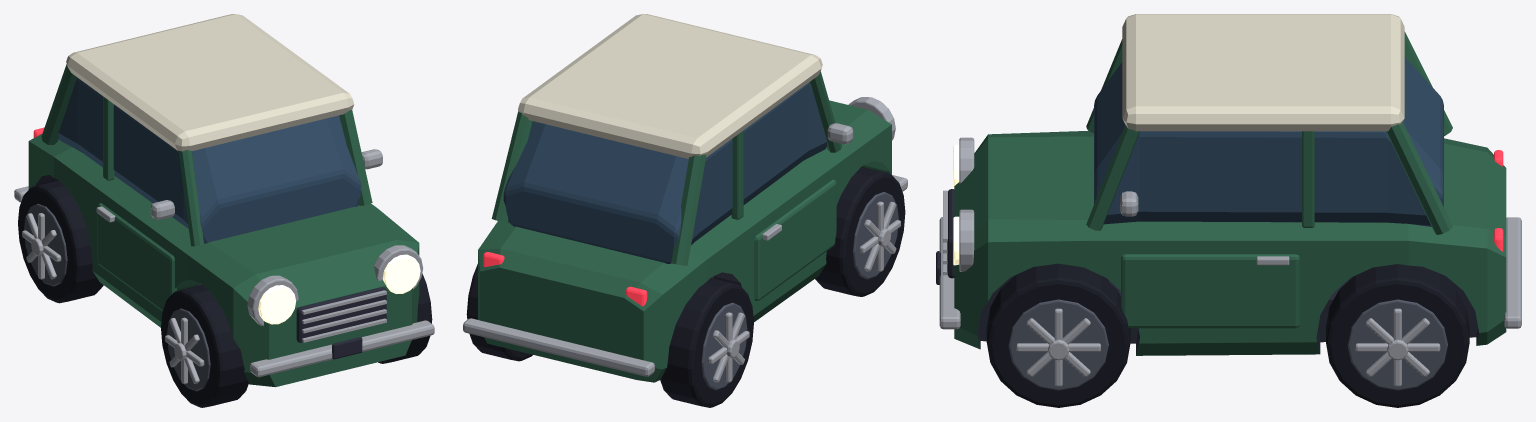
The model's file is mini.glb.
The picture shows the model from 3 angles, left to right: view 1: azimuth 30°, elevation 25°; view 2: azimuth 150°, elevation 25°; view 3: azimuth 270°, elevation 25°; orthographic projection. The views are drawn at different scales.
Visible parts, largest first — view 1: green_body, white_floating_roof, upright_glasshouse, tire_front_left.001, tire_rear_left.001, door_panel.002, chrome_front_bumper, front_grille, rim_recess.006, rim_recess.004, A_pillar.002, C_pillar (+13 smaller); view 2: green_body, upright_glasshouse, white_floating_roof, tire_rear_left.001, door_panel.002, tire_front_left.001, chrome_rear_bumper, C_pillar, rim_recess.006, rim_recess.004, C_pillar.001, tire_rear_right.001 (+4 smaller); view 3: green_body, white_floating_roof, upright_glasshouse, door_panel.003, tire_rear_right.001, tire_front_right.001, rim_recess.005, rim_recess.007, C_pillar.001, chrome_rear_bumper, A_pillar.003, B_pillar.003 (+5 smaller).
Part boxes in pixels (box(x1,y1,x2,y2)): green_body: box(28, 134, 419, 387); white_floating_roof: box(66, 14, 354, 151); upright_glasshouse: box(58, 78, 361, 243); tire_front_left.001: box(161, 284, 248, 407); tire_rear_left.001: box(18, 180, 103, 303); door_panel.002: box(97, 203, 176, 311); chrome_front_bumper: box(250, 320, 434, 377); front_grille: box(296, 287, 386, 342); rim_recess.006: box(24, 204, 67, 286); rim_recess.004: box(167, 308, 210, 391); A_pillar.002: box(178, 150, 204, 246); C_pillar: box(41, 64, 77, 144); green_body: box(478, 100, 891, 382); upright_glasshouse: box(503, 82, 826, 263); white_floating_roof: box(518, 14, 822, 158); tire_rear_left.001: box(660, 278, 753, 407); door_panel.002: box(754, 179, 836, 301); tire_front_left.001: box(815, 166, 905, 296); chrome_rear_bumper: box(463, 318, 654, 376); C_pillar: box(671, 154, 706, 265); rim_recess.006: box(701, 302, 747, 390); rim_recess.004: box(852, 192, 898, 279); C_pillar.001: box(491, 111, 533, 222); tire_rear_right.001: box(466, 264, 532, 361); green_body: box(954, 130, 1506, 355); white_floating_roof: box(1122, 14, 1404, 131); upright_glasshouse: box(1094, 57, 1443, 226); door_panel.003: box(1121, 254, 1299, 328); tire_rear_right.001: box(1326, 264, 1469, 407); tire_front_right.001: box(986, 263, 1130, 407); rim_recess.005: box(1008, 299, 1108, 390); rim_recess.007: box(1347, 299, 1447, 390); C_pillar.001: box(1386, 122, 1452, 234); chrome_rear_bumper: box(1504, 217, 1521, 328); A_pillar.003: box(1086, 125, 1139, 230); B_pillar.003: box(1302, 131, 1314, 227).
Bounding box in the file's own units: 1.2 × 1.17 × 2.16.
